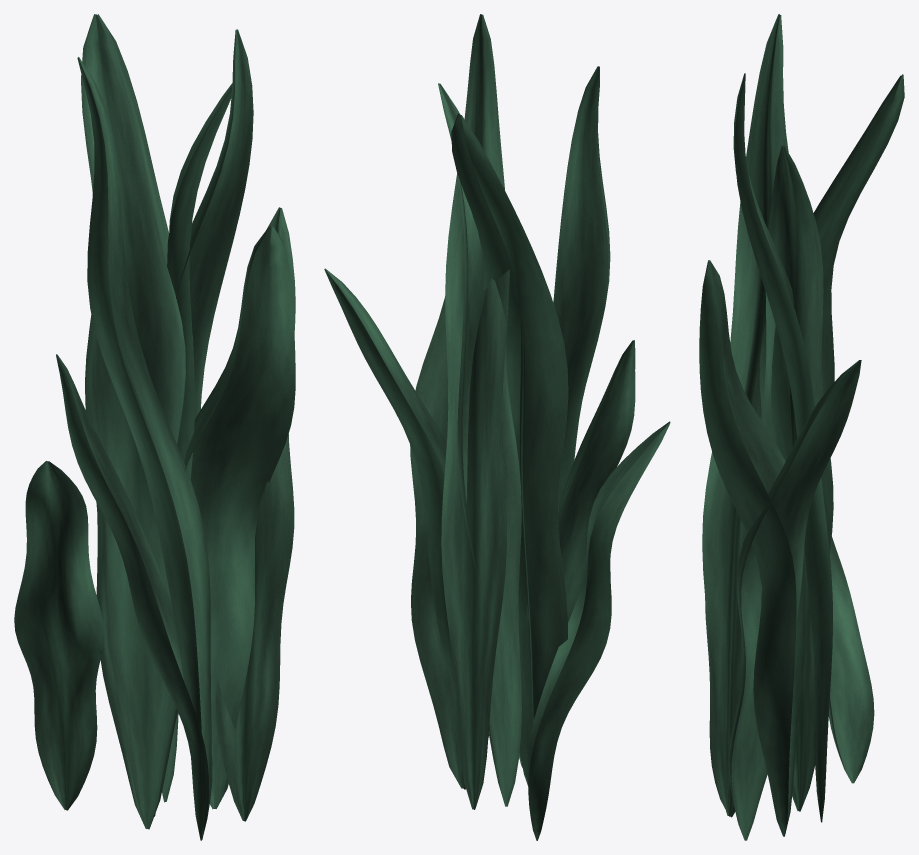
File: seaweed_kelp_a.glb
3 views of the same model, side by side, from view 1: azimuth 30°, elevation 25°; view 2: azimuth 150°, elevation 25°; view 3: azimuth 270°, elevation 25° (orthographic). The views are drawn at different scales.
Parts seen in each view (by area): view 1: world; view 2: world; view 3: world.
Part boxes in pixels (bbox=[...]): world: bbox=[14, 14, 295, 840]; world: bbox=[324, 14, 670, 840]; world: bbox=[699, 14, 904, 840].
Size of the model in its own units: 0.6468 by 1.64 by 0.4008.
Materials: 1 (1 with a texture image).
